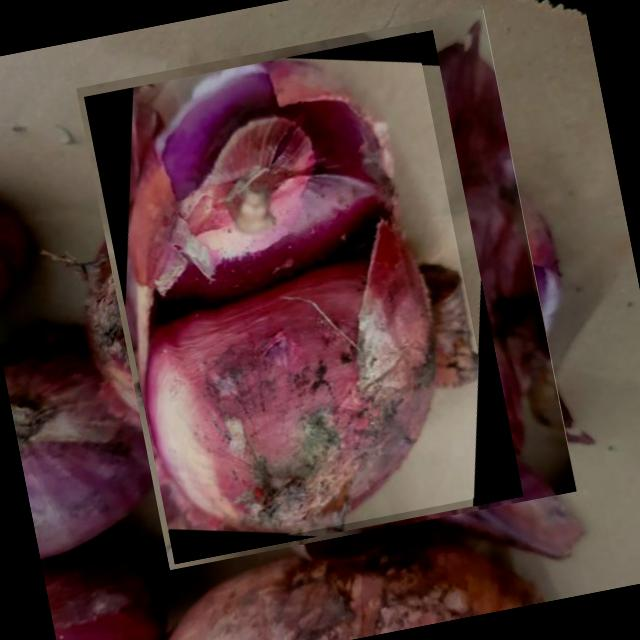rotten: (127, 59, 479, 534)
